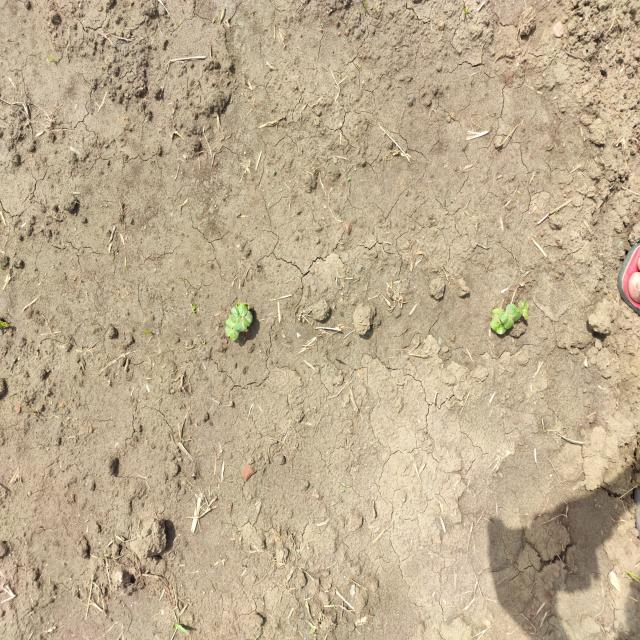seedling_s1: (234, 311, 252, 332), (231, 303, 248, 321), (506, 304, 522, 322), (490, 319, 507, 334), (500, 312, 514, 329), (225, 315, 235, 337), (492, 308, 506, 322), (230, 326, 240, 341), (518, 308, 528, 320), (518, 299, 529, 309)
